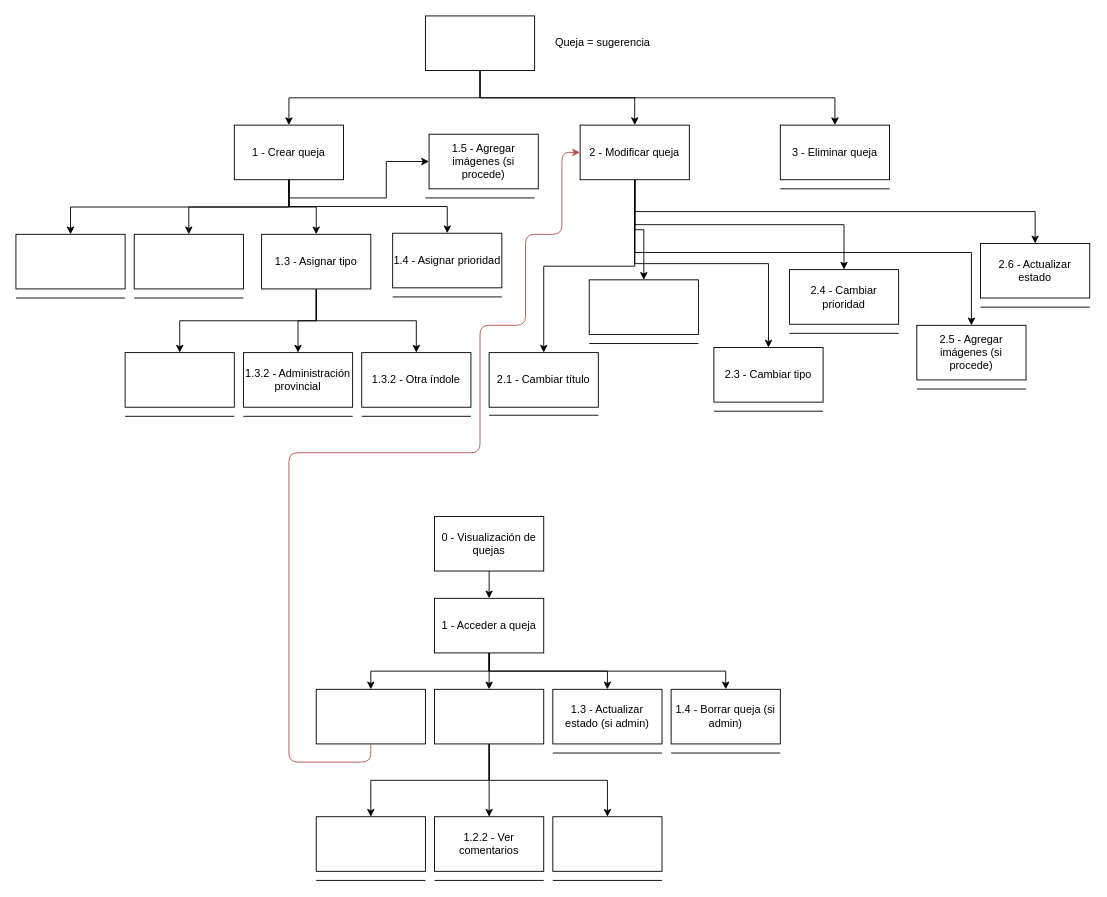
Image size: 1107x897. Some labels were removed from this diagram. The centre of each missing label's shape, as x and y in pixels:
"0 - Gestión de quejas y sugerencias" goes at pixel 480 43.
"1.1 - Agregar título" goes at pixel 70 261.
"1.1 - Editar queja (si propietario)" goes at pixel 370 716.
"1.2 - Agregar descripción" goes at pixel 188 261.
"1.2 - Visualizar queja" goes at pixel 489 716.
"1.2.1 - Ver estado" goes at pixel 370 843.
"1.2.3 - Ver likes/dislikes" goes at pixel 607 843.
"1.3.1 - Administración local" goes at pixel 179 379.
"2.2 - Cambiar descripción" goes at pixel 643 306.
